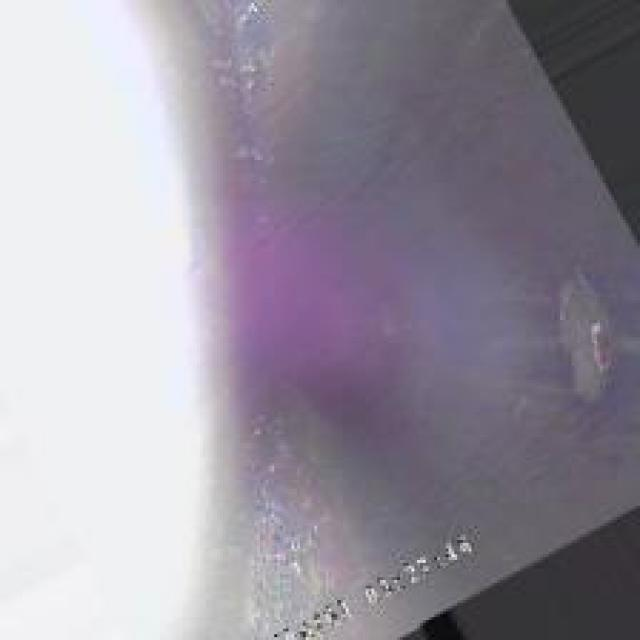ferrule: (554, 274, 612, 397)
